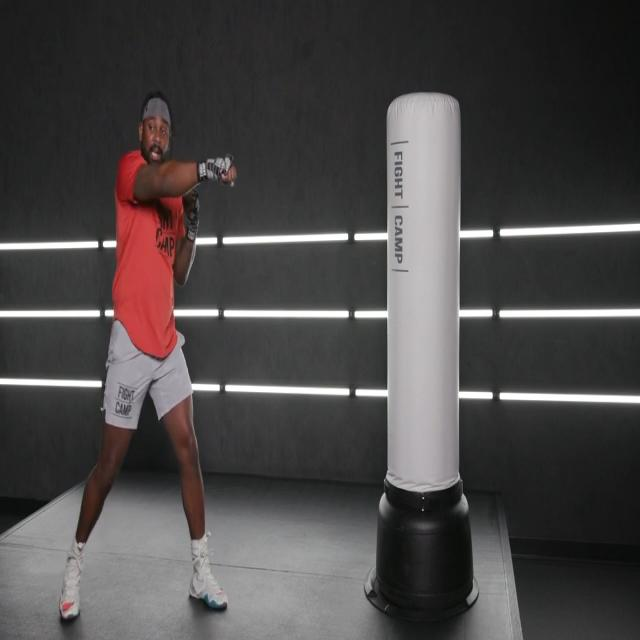Cross: (103, 139, 249, 377)
